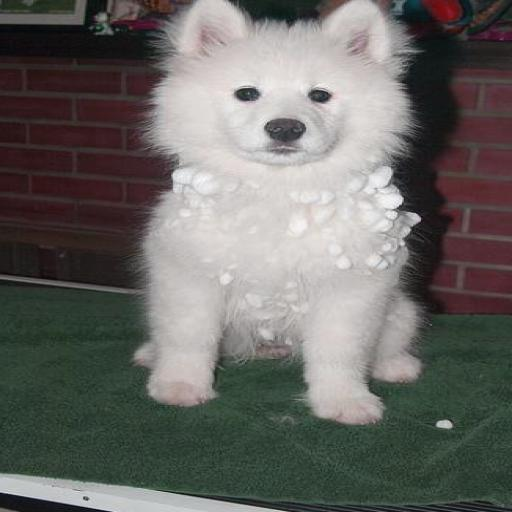dog_face: (165, 0, 386, 164)
